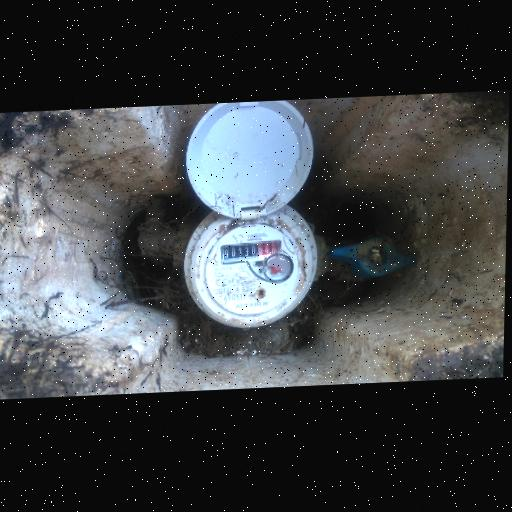0: (250, 243, 259, 256), (229, 246, 237, 259), (224, 246, 231, 259)
1: (237, 245, 244, 257)
3: (242, 245, 250, 257)
4: (264, 242, 271, 254)
6: (258, 243, 265, 255)
8: (270, 241, 278, 254)
border_water_meter_number: (220, 239, 282, 264)
